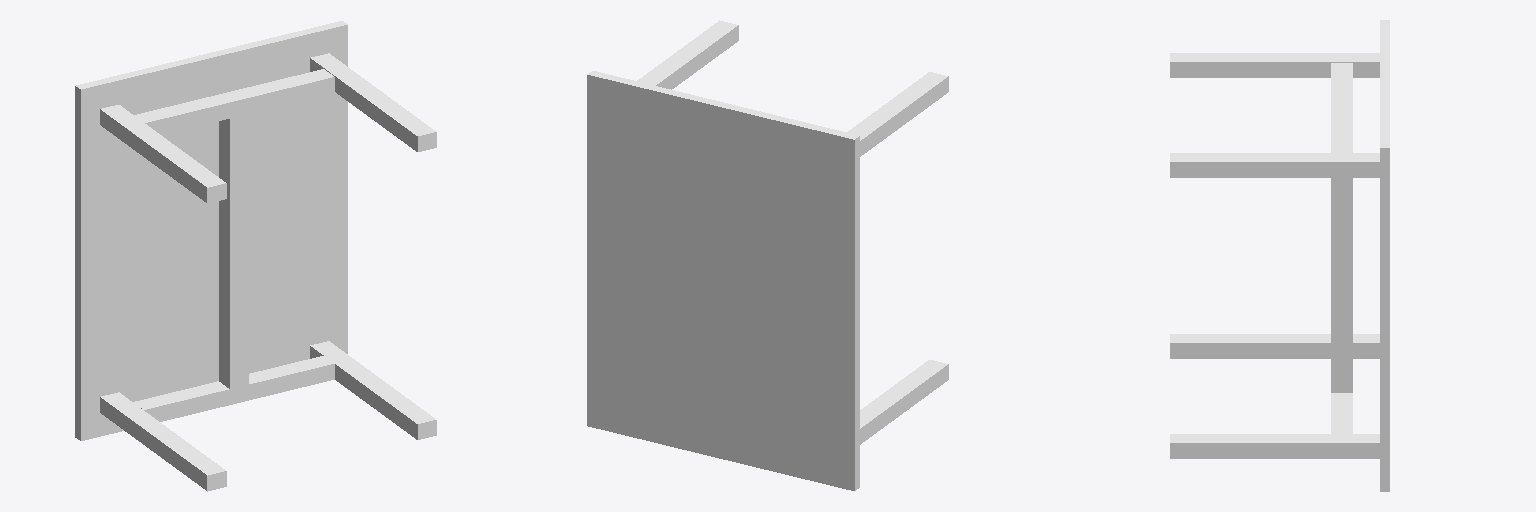
The robot description file, URDF, robot "table1_two.urdf":
<?xml version="1.0" ?>
<robot name="table1_two.urdf">
  <link name="baseLink">
    <inertial>
      <origin rpy="0 0 0" xyz="0 0 0"/>
       <mass value="0.0"/>
       <inertia ixx="0" ixy="0" ixz="0" iyy="0" iyz="0" izz="0"/>
    </inertial>
    <visual>
      <origin rpy="0 0 0" xyz="0 0 0"/>
      <geometry>
        <mesh filename="table1_two.obj" scale="1.0 1.0 1.0"/>
      </geometry>
      <material name="white">
       <color rgba="1 1 1 1"/>
     </material>
    </visual>
    <collision concave="yes">
      <origin rpy="0 0 0" xyz="0 0 0"/>
      <geometry>
        <mesh filename="table1_two.obj" scale="1.0 1.0 1.0"/>
        <!-- You could also specify the collision (for the table1_two) with a "box" tag: -->
        <!-- <box size=".06 .06 .06"/> -->
      </geometry>
    </collision>
  </link>
</robot>
        

--- What the picture shows (computed from the rendered views, not written in the file) ---
3 views of the same robot in one strip: view 1: azimuth 30°, elevation 25°; view 2: azimuth 150°, elevation 25°; view 3: azimuth 270°, elevation 25° (orthographic).
Model table1_two.urdf with 1 links and 0 joints (none), rooted at baseLink, posed every joint at zero.
Visible links, largest first — view 1: baseLink; view 2: baseLink; view 3: baseLink.
Link boxes in pixels (left/top/right/bottom): baseLink: left=75, top=21, right=436, bottom=491; baseLink: left=587, top=20, right=948, bottom=490; baseLink: left=1170, top=20, right=1389, bottom=491.
Bounding box of the posed robot: 140 × 103 × 176 m (x, y, z).
Meshes: 1 distinct files referenced, 1 mesh visuals loaded (1 OBJ).
